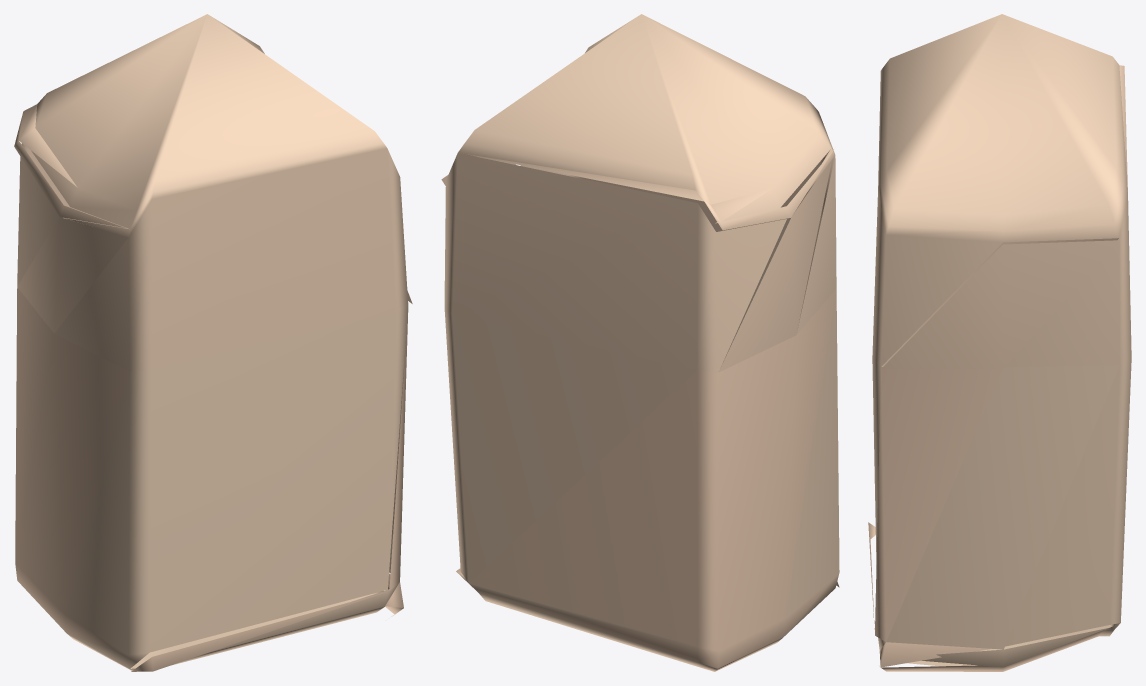
File: street.furniture.milestone_a.glb
3 views of the same model, side by side, from view 1: azimuth 30°, elevation 25°; view 2: azimuth 150°, elevation 25°; view 3: azimuth 270°, elevation 25° (orthographic).
Visible parts, largest first — view 1: main__paint_edb, main__concrete_edb, main__concrete_fdb, main__paint_fdb; view 2: main__paint_edb, main__concrete_fdb, main__galv_edb, main__concrete_edb, main__paint_fdb; view 3: main__paint_edb, main__concrete_edb, main__concrete_fdb, main__galv_edb, main__paint_fdb.
Boxes of the visible parts, x1,y1,x2,y2 form: main__paint_edb: (17, 14, 408, 371); main__concrete_edb: (65, 306, 408, 670); main__concrete_fdb: (15, 287, 408, 671); main__paint_fdb: (14, 104, 412, 333); main__paint_edb: (444, 14, 836, 372); main__concrete_fdb: (469, 289, 839, 671); main__galv_edb: (444, 308, 696, 583); main__concrete_edb: (456, 267, 839, 670); main__paint_fdb: (441, 149, 833, 371); main__paint_edb: (872, 14, 1131, 366); main__concrete_edb: (872, 324, 1120, 667); main__concrete_fdb: (868, 238, 1118, 671); main__galv_edb: (1005, 358, 1131, 646); main__paint_fdb: (881, 65, 1127, 369).
Bounding box in the file's own units: 0.4665 × 0.8817 × 0.3532.
